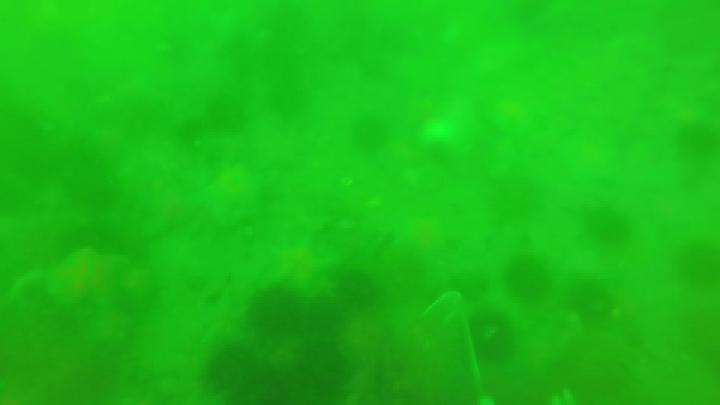echinus: (55, 136, 109, 210), (203, 345, 271, 403), (285, 345, 349, 405), (245, 286, 304, 341), (560, 276, 626, 325), (577, 205, 636, 250), (464, 317, 520, 363), (305, 291, 344, 349), (676, 244, 718, 290), (194, 97, 246, 133), (336, 270, 376, 313), (506, 259, 548, 296), (347, 125, 386, 154)
starfish: (49, 243, 132, 312), (198, 161, 276, 228)
